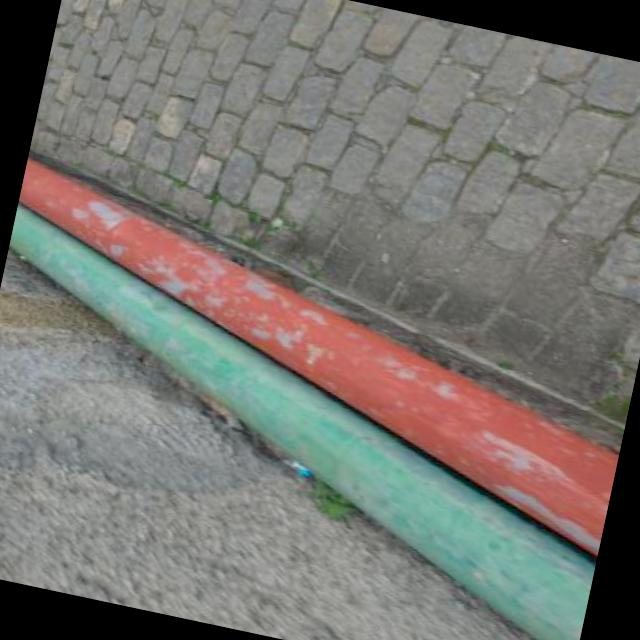gas: (8, 204, 595, 640), (18, 157, 616, 558)
